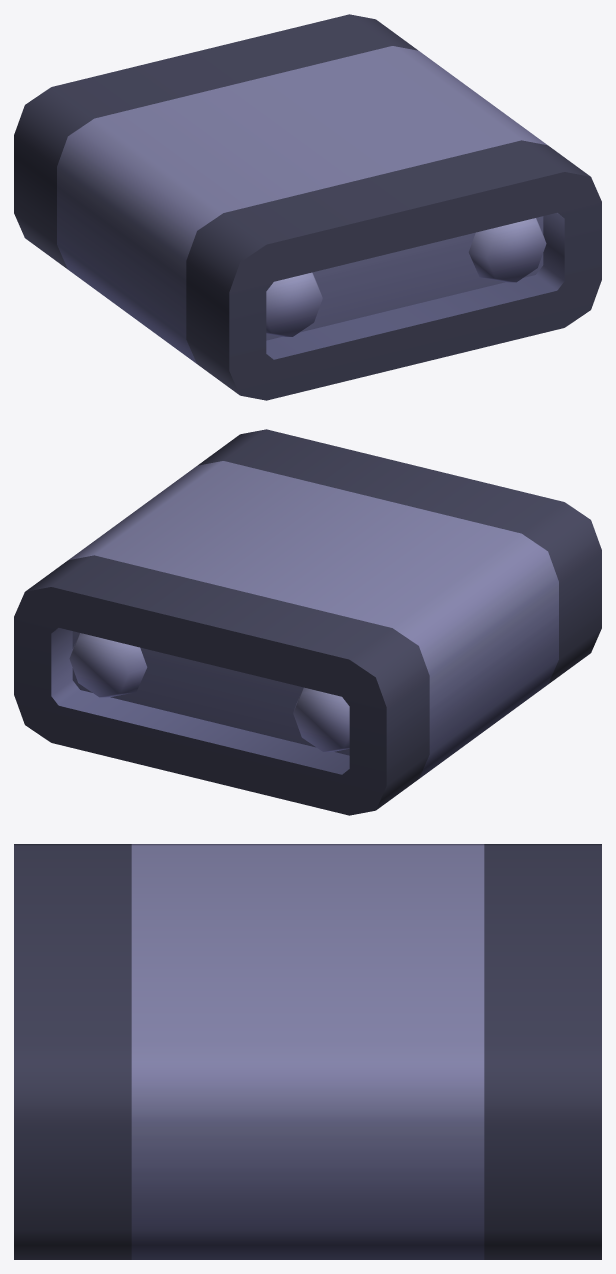
Rendered from kenney-conveyor-conveyor-stripe.glb.
3 views of the same model, one above another, from view 1: azimuth 30°, elevation 25°; view 2: azimuth 150°, elevation 25°; view 3: azimuth 270°, elevation 25° (orthographic). The views are drawn at different scales.
Parts seen in each view (by area): view 1: conveyor-stripe; view 2: conveyor-stripe; view 3: conveyor-stripe.
Part boxes in pixels (x1=…): conveyor-stripe: x1=14, y1=14, x2=601, y2=400; conveyor-stripe: x1=14, y1=429, x2=601, y2=815; conveyor-stripe: x1=14, y1=844, x2=601, y2=1259.
Size of the model in its own units: 1 by 0.3999 by 1.
Materials: 1 (1 with a texture image).
